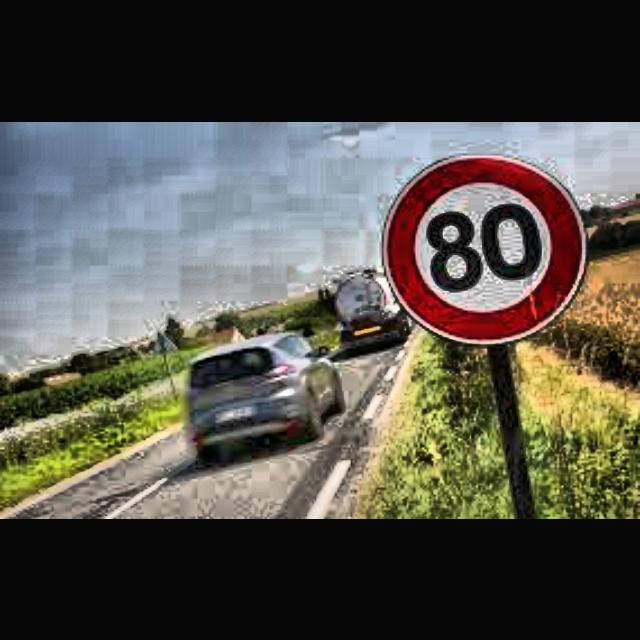speed_80: (383, 156, 585, 340)
